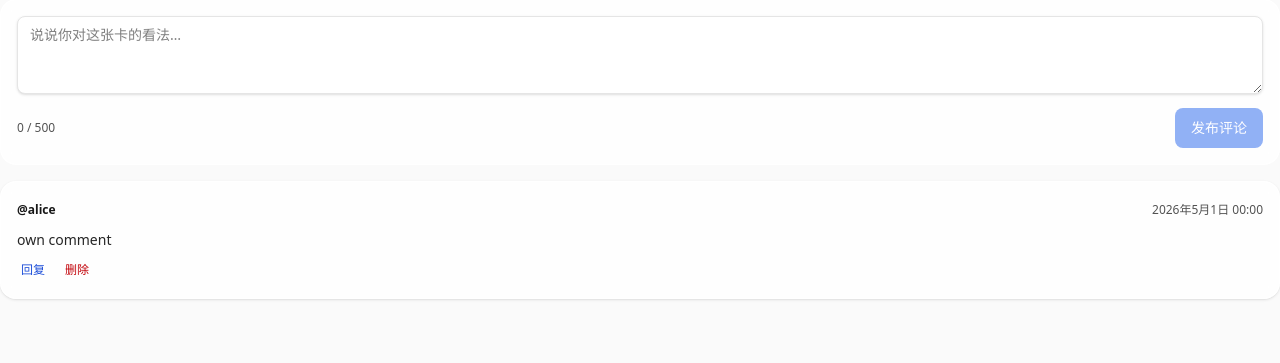
CommentSection (authenticated) › uses inline confirmation and returns focus to delete on cancel
Step 1. Click the button with aria-label "删除 @alice 的评论" → point(77, 270), box [61,258,93,282]
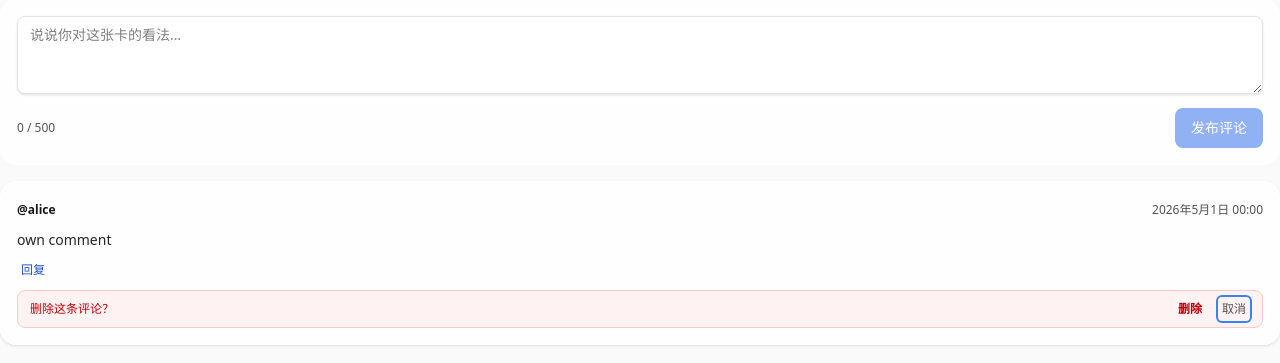
Now the text "删除这条评论？" is shown, box [30,301,114,317]
Step 2. Click the button "取消" → point(1234, 309), box [1218,297,1250,321]
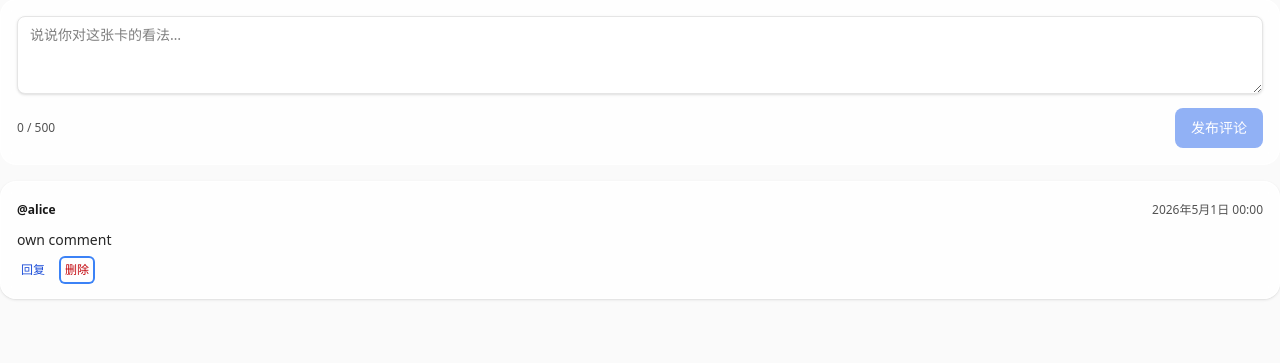
Now the text "删除这条评论？" is gone
